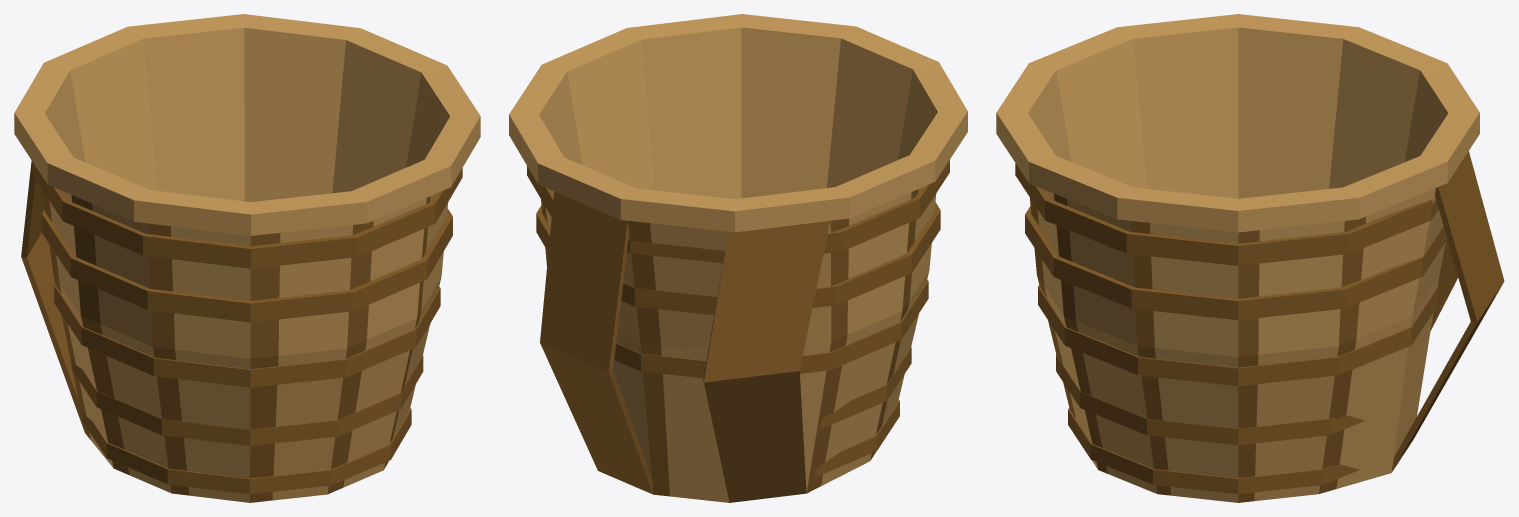
The model's file is basket.fbx.
3 views of the same model, side by side, from view 1: azimuth 30°, elevation 25°; view 2: azimuth 150°, elevation 25°; view 3: azimuth 270°, elevation 25° (orthographic). The views are drawn at different scales.
Parts seen in each view (by area): view 1: basket; view 2: basket; view 3: basket.
Boxes of the visible parts, left/top/right/bottom form: basket: left=14, top=14, right=480, bottom=502; basket: left=509, top=14, right=967, bottom=502; basket: left=996, top=14, right=1504, bottom=502.
Bounding box in the file's own units: 400 × 310 × 436.
